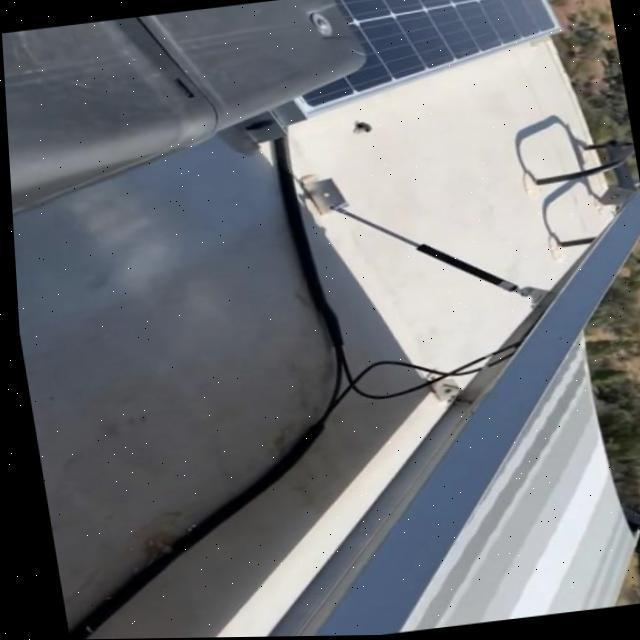Normal Solar Panel: (283, 0, 573, 115)
